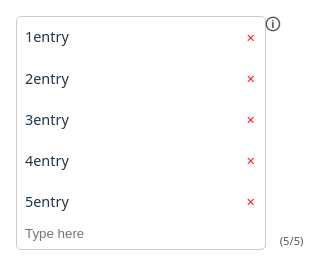
Test case: CustomTextArea › should remove item from the button
This screenshot has width=320, height=267.
Check: the text "1entry" is shown, box 25,27 -> 69,46
Step 1. Click the button "✕" in the row of "1entry" → (250, 37), box 246,23 -> 255,52
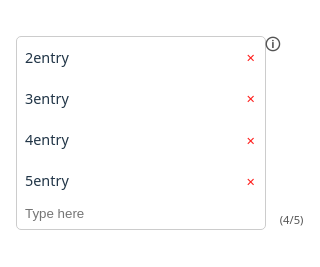
Check: the text "1entry" is gone
